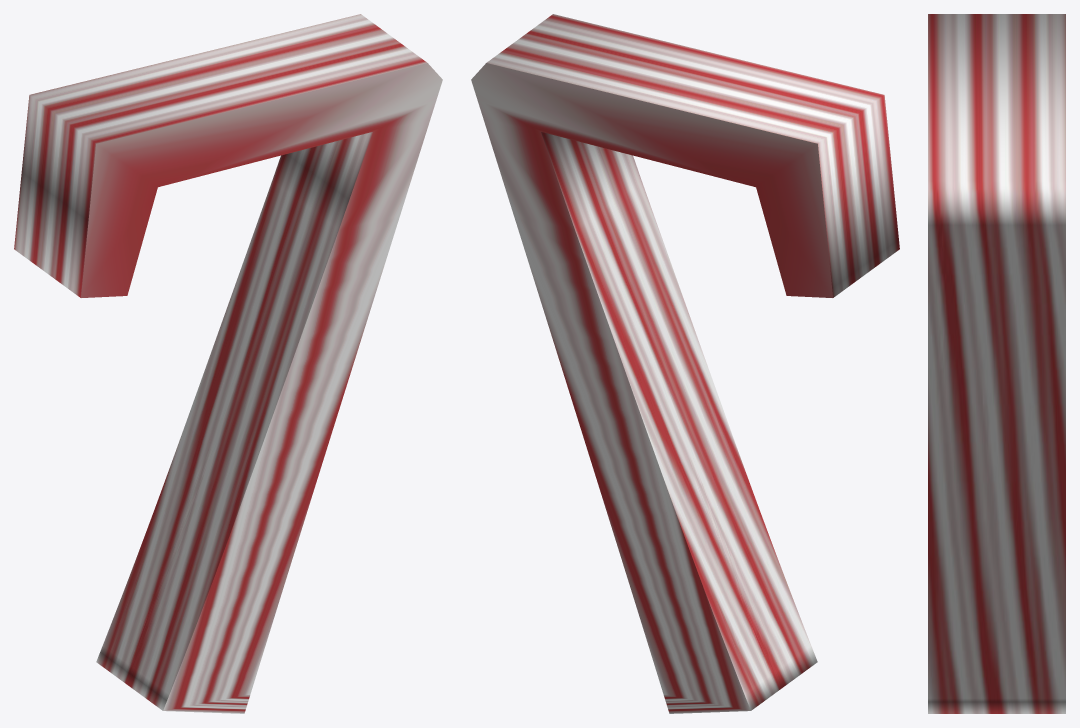
3 views of the same model, side by side, from view 1: azimuth 30°, elevation 25°; view 2: azimuth 150°, elevation 25°; view 3: azimuth 270°, elevation 25° (orthographic). The views are drawn at different scales.
Parts seen in each view (by area): view 1: Text.010; view 2: Text.010; view 3: Text.010.
Part boxes in pixels (left/top/right/bottom): Text.010: left=14, top=14, right=442, bottom=713; Text.010: left=471, top=14, right=899, bottom=713; Text.010: left=928, top=14, right=1065, bottom=713.
Size of the model in its own units: 0.3753 by 0.6006 by 0.12.
1 material, 1 textured.
